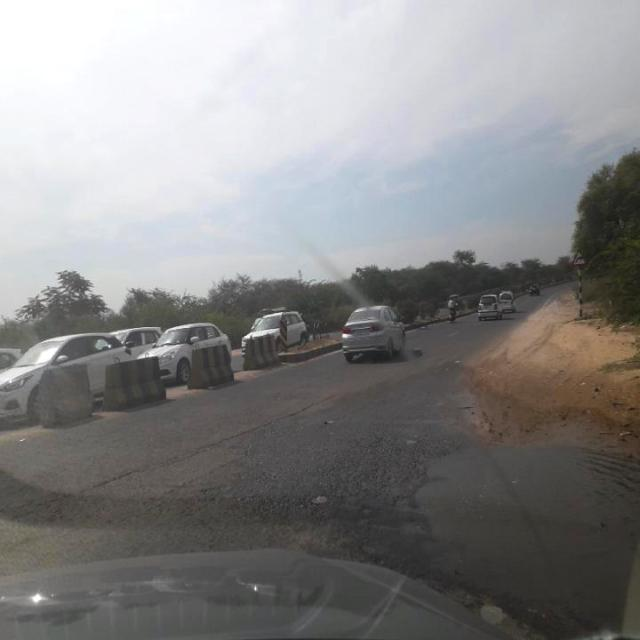D00: (23, 388, 339, 530)
D40: (379, 406, 614, 631)
